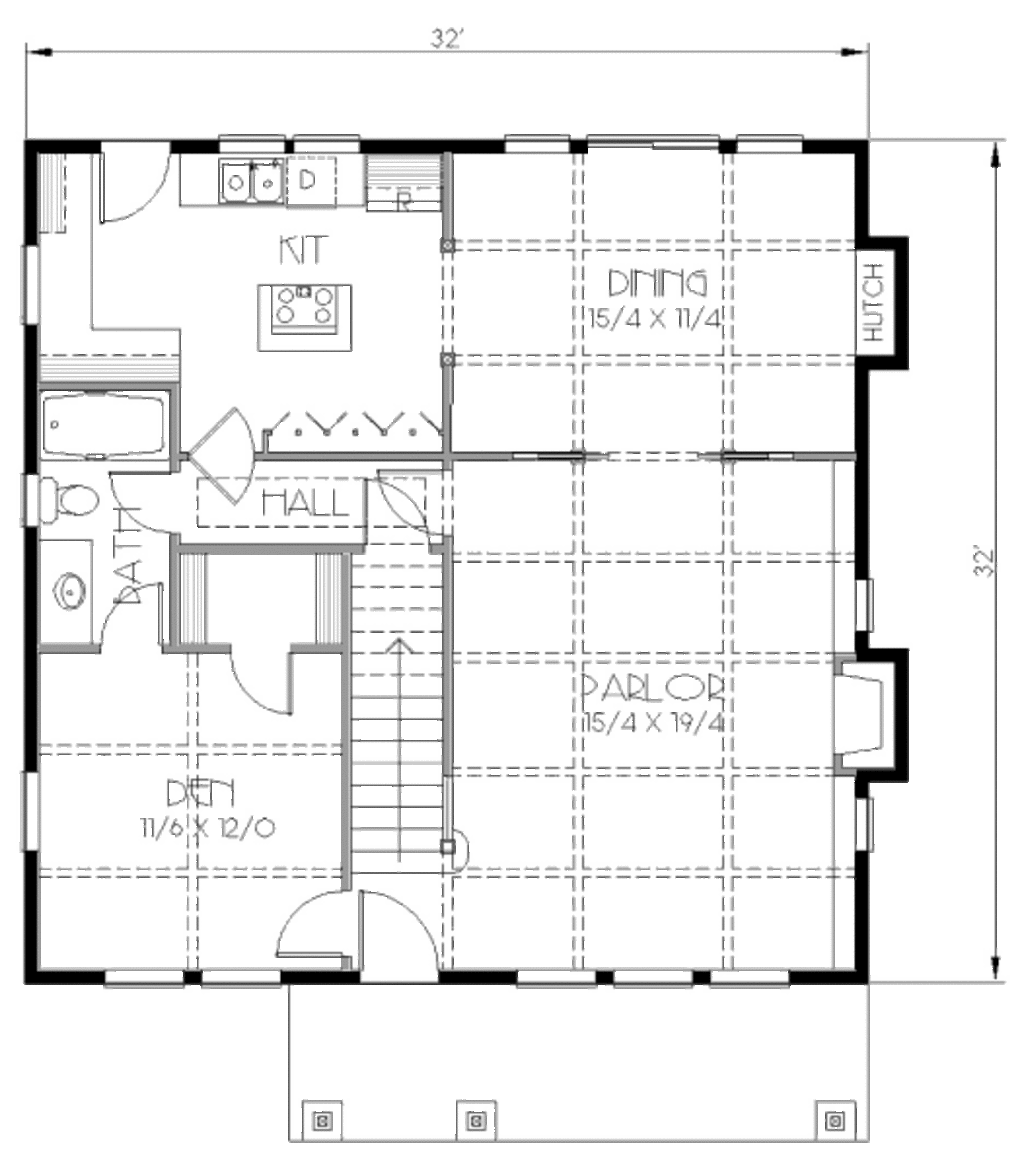door: (353, 879, 442, 979), (89, 131, 178, 226), (269, 885, 362, 967), (98, 574, 180, 653), (105, 465, 187, 544), (226, 638, 303, 721), (185, 394, 258, 460), (187, 456, 255, 508)
kitchen_bar: (241, 249, 387, 360)
large_sink: (16, 467, 114, 537)
small_sink: (35, 535, 98, 649)
stairs: (341, 546, 462, 874)
tub: (32, 387, 173, 463)
twin_sink: (205, 151, 291, 213)
window: (507, 958, 598, 996), (703, 954, 796, 990), (605, 962, 707, 994), (99, 958, 183, 990), (16, 242, 46, 331), (205, 962, 287, 994), (21, 771, 46, 854), (851, 571, 880, 633), (851, 801, 880, 851), (508, 131, 573, 153)
